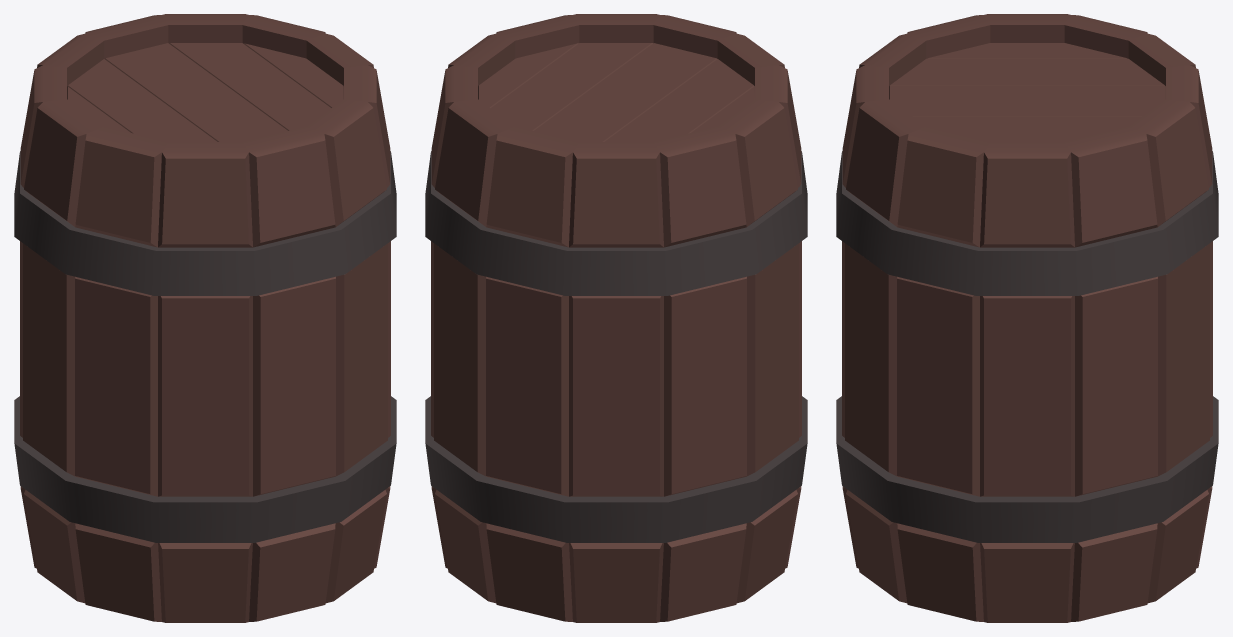
File: Barrel_Small.fbx
3 views of the same model, side by side, from view 1: azimuth 30°, elevation 25°; view 2: azimuth 150°, elevation 25°; view 3: azimuth 270°, elevation 25° (orthographic).
Visible parts, largest first — view 1: Barrel_Small; view 2: Barrel_Small; view 3: Barrel_Small.
Part boxes in pixels (x1,y1,x2,y2): Barrel_Small: (14,14,396,622); Barrel_Small: (425,14,807,622); Barrel_Small: (836,14,1218,622).
Bounding box in the file's own units: 0.00383 × 0.00519 × 0.00382.
